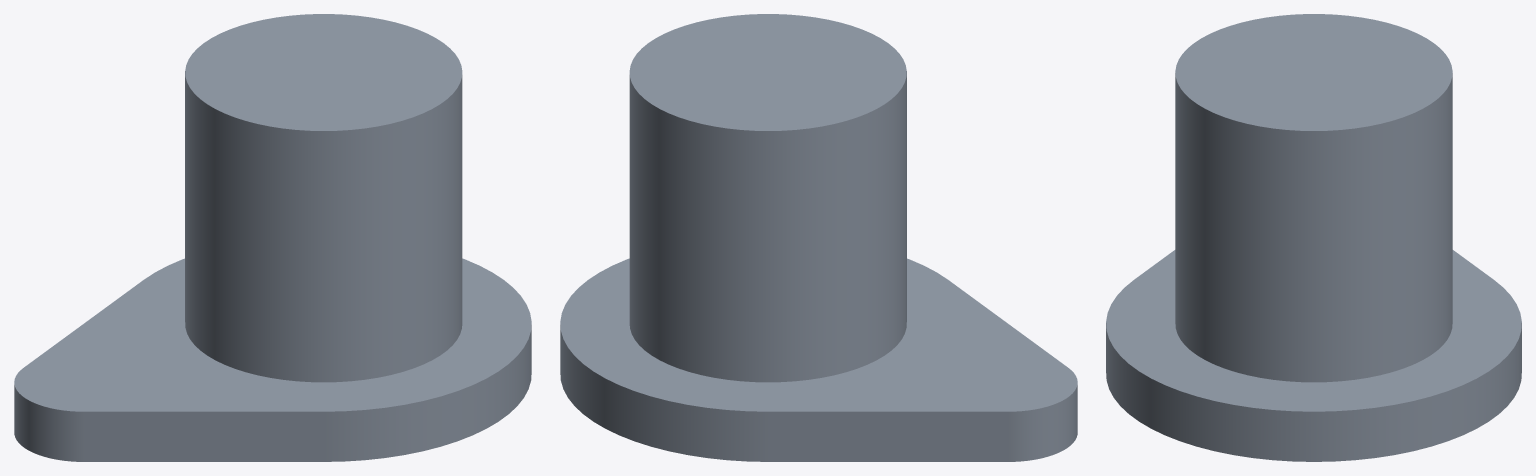
File: step_03.glb
The picture shows the model from 3 angles, left to right: view 1: azimuth 30°, elevation 25°; view 2: azimuth 150°, elevation 25°; view 3: azimuth 270°, elevation 25°; orthographic projection.
Visible parts, largest first — view 1: part__slotted boss flange; view 2: part__slotted boss flange; view 3: part__slotted boss flange.
Part boxes in pixels (left/top/right/bottom): part__slotted boss flange: left=14, top=14, right=531, bottom=461; part__slotted boss flange: left=560, top=14, right=1077, bottom=461; part__slotted boss flange: left=1106, top=14, right=1521, bottom=461.
Bounding box in the file's own units: 79.99 × 48 × 59.98.
